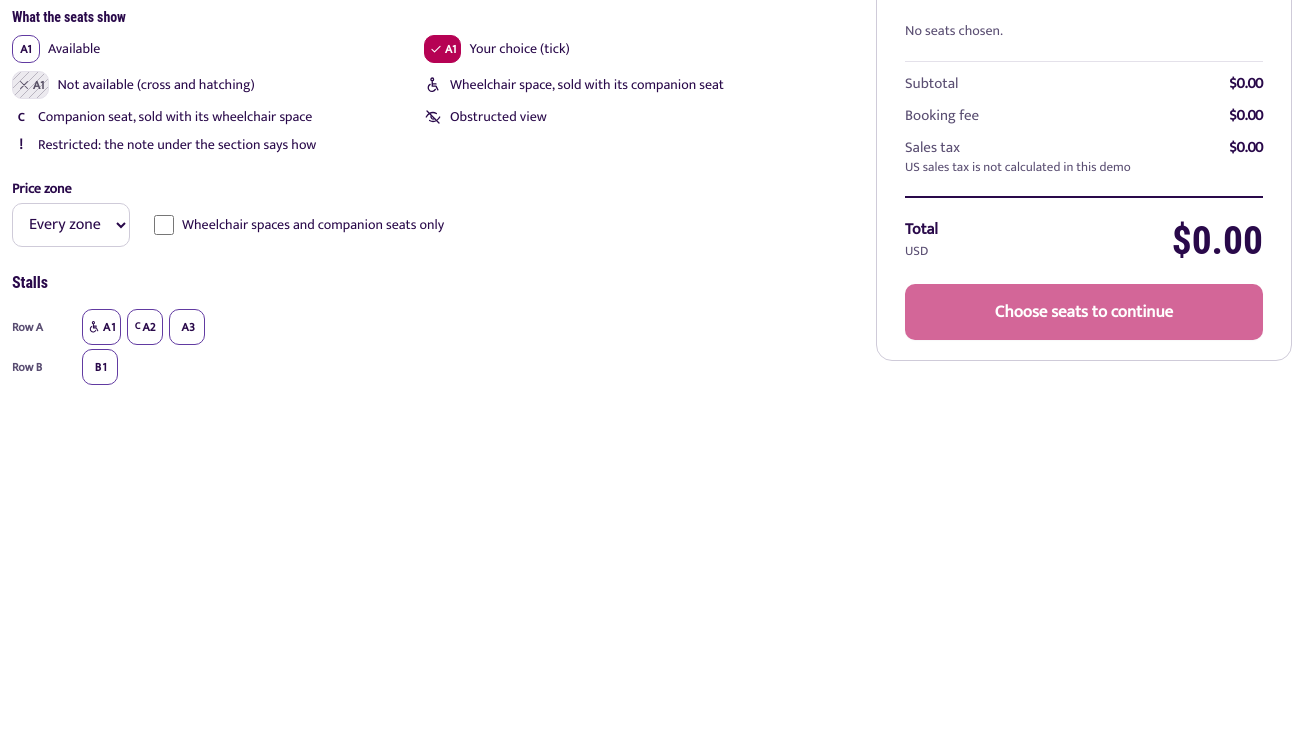
Test: reserving, naming and paying › refuses an address typed as a name before anything is sent
Click the button "A3".
click(187, 327)  # box [169,309,205,345]
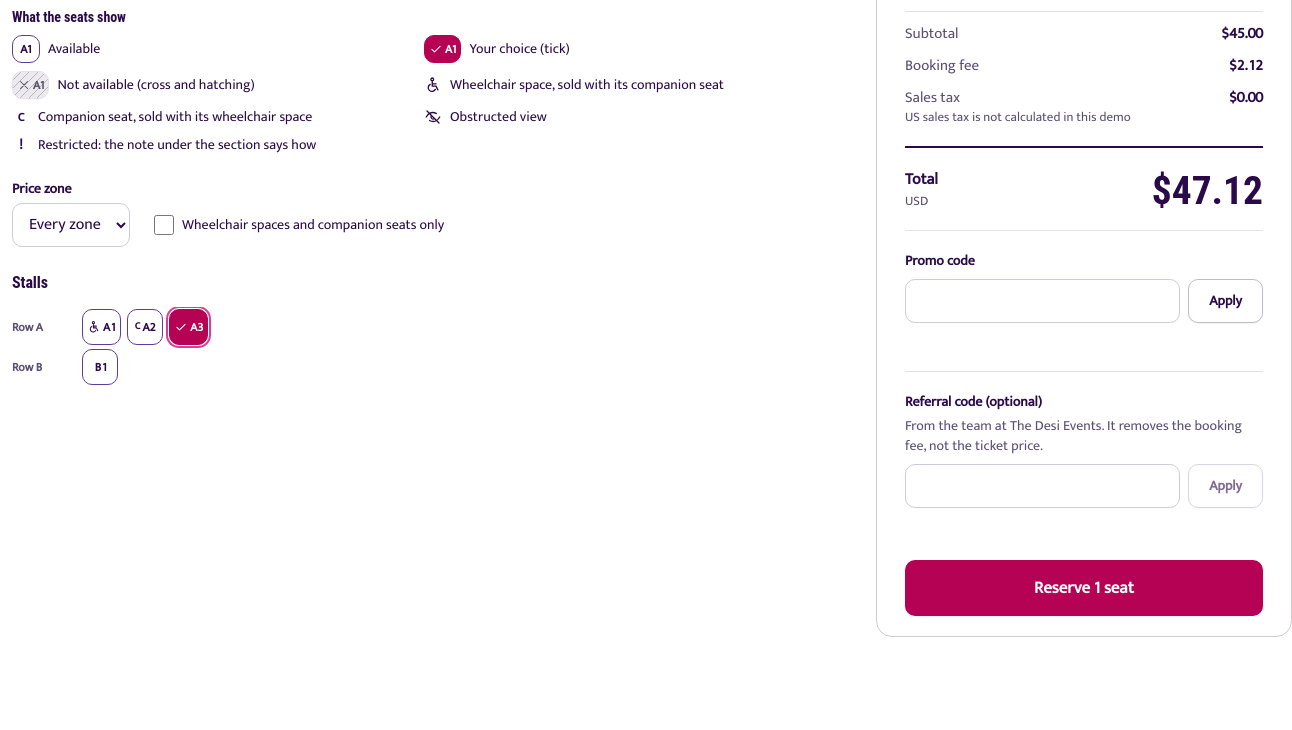
Click the button "Reserve 1 seat".
click(1084, 588)  # box [905,560,1263,616]
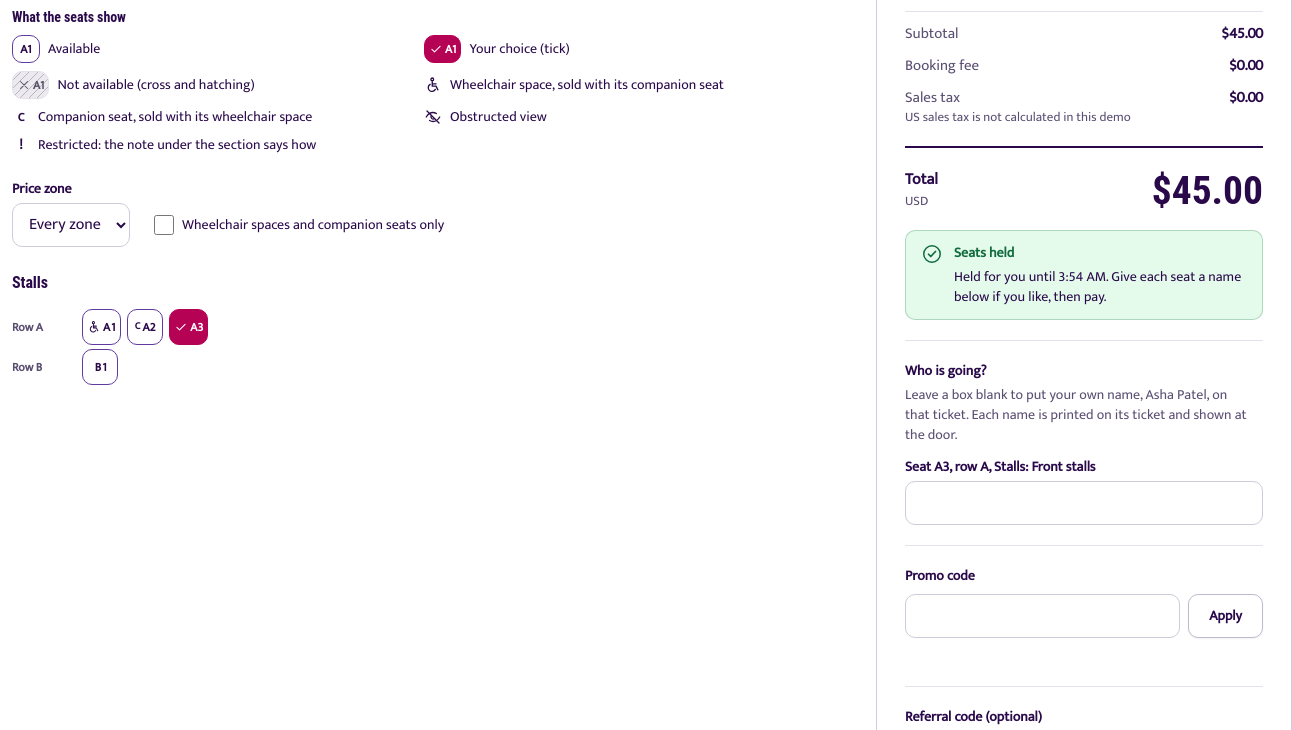
Type "ravi@example.test" into the field labelled "Seat A3, row A, Stalls: Front stalls".
click(1084, 503); type("ravi@example.test")  # box [905,481,1263,525]
(page scrolled)
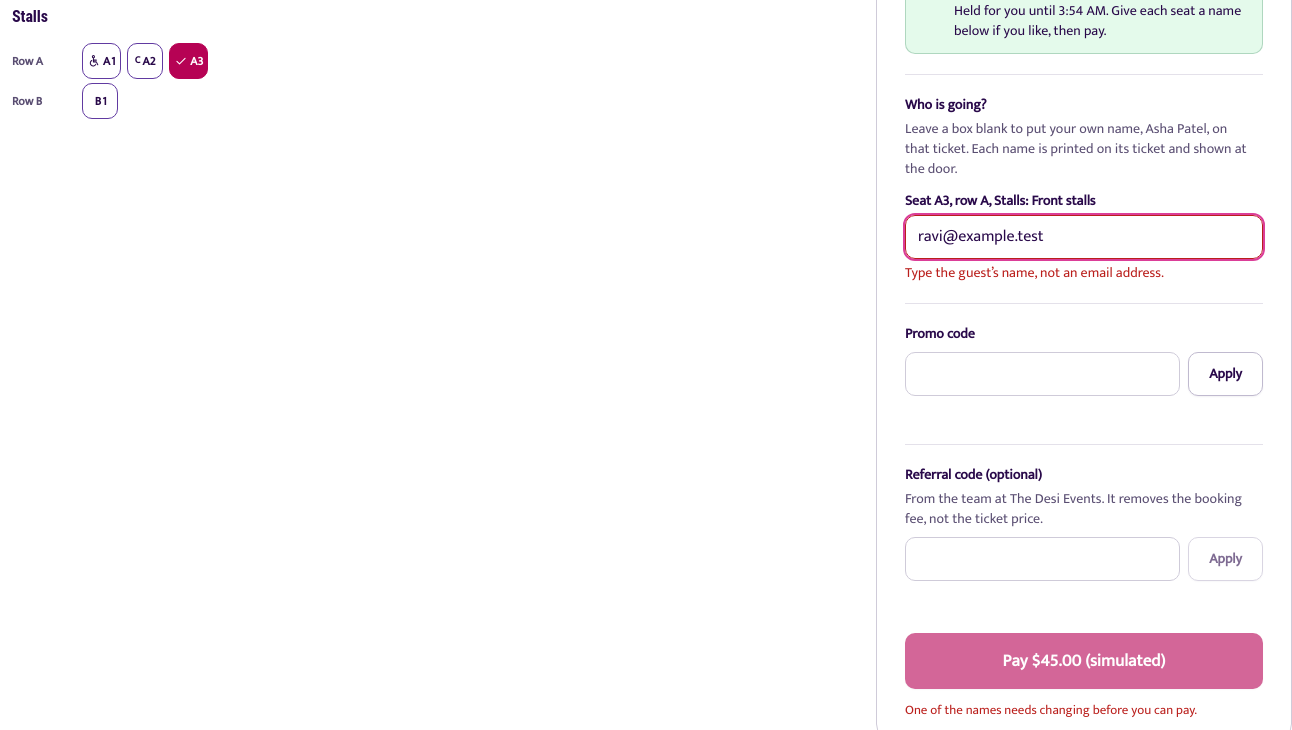
Expected: the text "Type the guest’s name, not an email address." is shown, [905,261,1164,284]
Expected: the button "Pay $45.00 (simulated)" is disabled, [905,633,1263,689]
